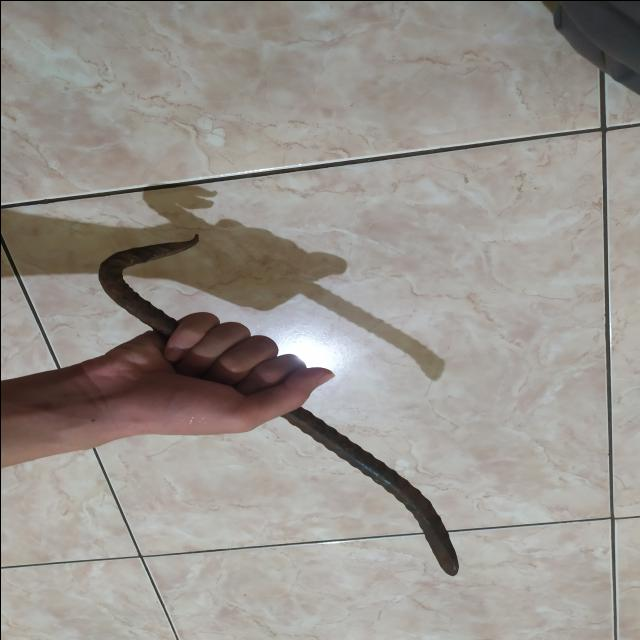Linggis: (99, 233, 460, 574)
